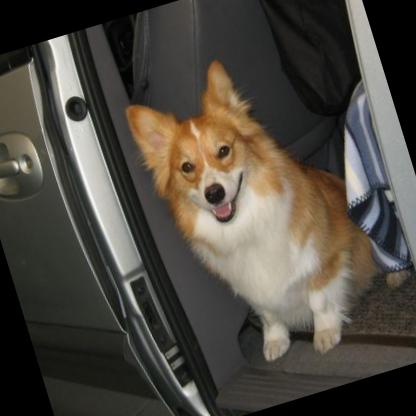Pembroke: (113, 19, 416, 390)
